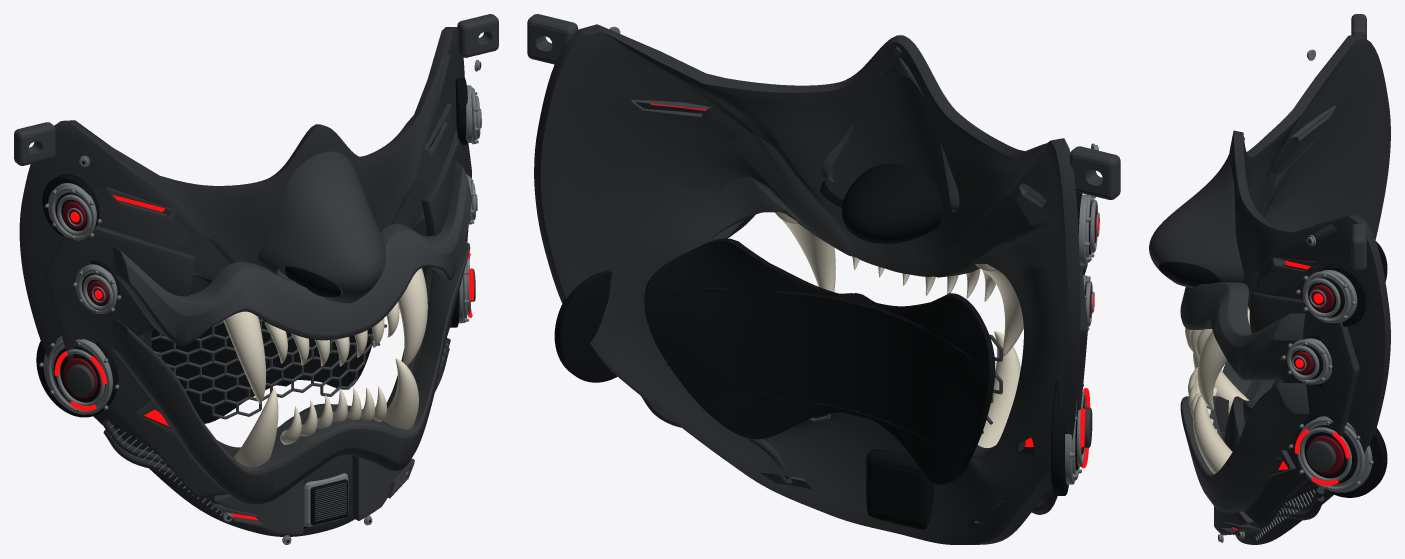
The model's file is mask-oni-04-fit.glb.
3 views of the same model, side by side, from view 1: azimuth 30°, elevation 25°; view 2: azimuth 150°, elevation 25°; view 3: azimuth 270°, elevation 25° (orthographic). The views are drawn at different scales.
Parts seen in each view (by area): view 1: Continuous sculpted face shell, Upper wraparound facial armor, Lower overlapping fang armor, Left Cheek layered armor, Sculpted nose bridge and tip, Dark mouth cavity back, Right Cheek layered armor, Left Layered chin armor, Left Upper canine, Right Layered chin armor, Right Upper canine, Left Lower canine (+17 smaller); view 2: Continuous sculpted face shell, Dark mouth cavity back, Enclosed internal nasal chamber, Chin filter gasket, Right Sensor 2 gasket, Left Strap lug, Left Lower canine, Right Strap lug, Right Upper canine, Sculpted nose bridge and tip, Left Upper canine, Left Sensor 2 gasket (+1 smaller); view 3: Continuous sculpted face shell, Lower overlapping fang armor, Right Cheek layered armor, Upper wraparound facial armor, Sculpted nose bridge and tip, Right Lower canine, Right Upper canine, Right Sensor 2 gasket, Enclosed internal nasal chamber, Right Sensor 0 gasket, Right Sensor 2 inset, Right Sensor 2 bezel (+23 smaller).
Part boxes in pixels (left/top/right/bottom): Continuous sculpted face shell: left=19, top=27, right=464, bottom=536; Upper wraparound facial armor: left=112, top=162, right=471, bottom=345; Lower overlapping fang armor: left=110, top=241, right=470, bottom=504; Left Cheek layered armor: left=45, top=225, right=228, bottom=497; Sculpted nose bridge and tip: left=258, top=151, right=386, bottom=303; Dark mouth cavity back: left=151, top=317, right=373, bottom=423; Right Cheek layered armor: left=412, top=128, right=471, bottom=376; Left Layered chin armor: left=214, top=479, right=303, bottom=534; Left Upper canine: left=223, top=311, right=266, bottom=403; Right Layered chin armor: left=352, top=455, right=404, bottom=520; Right Upper canine: left=398, top=268, right=427, bottom=365; Left Lower canine: left=234, top=388, right=278, bottom=467; Continuous sculpted face shell: left=534, top=24, right=1080, bottom=544; Dark mouth cavity back: left=644, top=238, right=995, bottom=484; Enclosed internal nasal chamber: left=841, top=163, right=942, bottom=243; Chin filter gasket: left=866, top=448, right=934, bottom=529; Right Sensor 2 gasket: left=554, top=271, right=617, bottom=382; Left Strap lug: left=1069, top=146, right=1120, bottom=199; Left Lower canine: left=977, top=331, right=1020, bottom=447; Right Strap lug: left=527, top=14, right=578, bottom=64; Right Upper canine: left=775, top=211, right=835, bottom=291; Sculpted nose bridge and tip: left=821, top=47, right=959, bottom=212; Left Upper canine: left=975, top=264, right=1023, bottom=356; Left Sensor 2 gasket: left=1051, top=380, right=1068, bottom=495; Continuous sculpted face shell: left=1224, top=34, right=1390, bottom=544; Lower overlapping fang armor: left=1180, top=361, right=1309, bottom=512; Right Cheek layered armor: left=1243, top=293, right=1359, bottom=527; Upper wraparound facial armor: left=1180, top=282, right=1305, bottom=380; Sculpted nose bridge and tip: left=1149, top=137, right=1244, bottom=287; Right Lower canine: left=1193, top=395, right=1232, bottom=473; Right Upper canine: left=1197, top=306, right=1250, bottom=410; Right Sensor 2 gasket: left=1308, top=414, right=1387, bottom=497; Enclosed internal nasal chamber: left=1167, top=262, right=1219, bottom=286; Right Sensor 0 gasket: left=1319, top=263, right=1366, bottom=326; Right Sensor 2 inset: left=1304, top=425, right=1357, bottom=483; Right Sensor 2 bezel: left=1308, top=416, right=1372, bottom=492.
Bounding box in the file's own units: 2.76 × 2.26 × 1.24.
